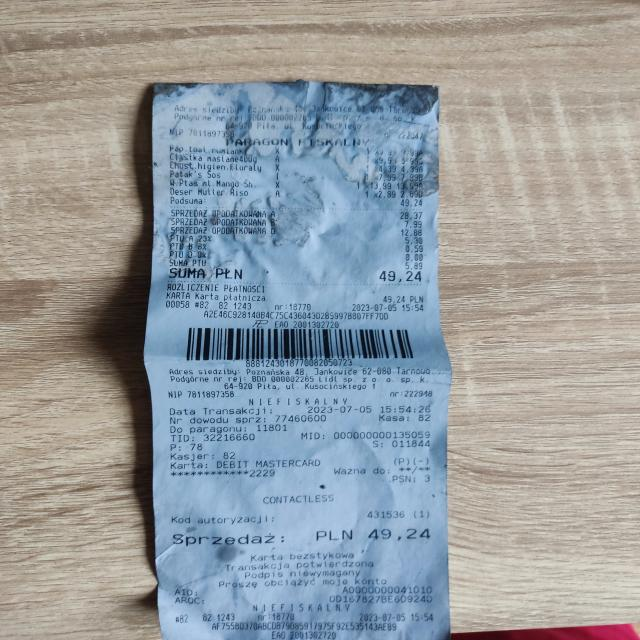bottom: (165, 196, 432, 639)
products: (170, 143, 423, 196)
top: (170, 96, 425, 140)
total: (316, 524, 431, 542)
